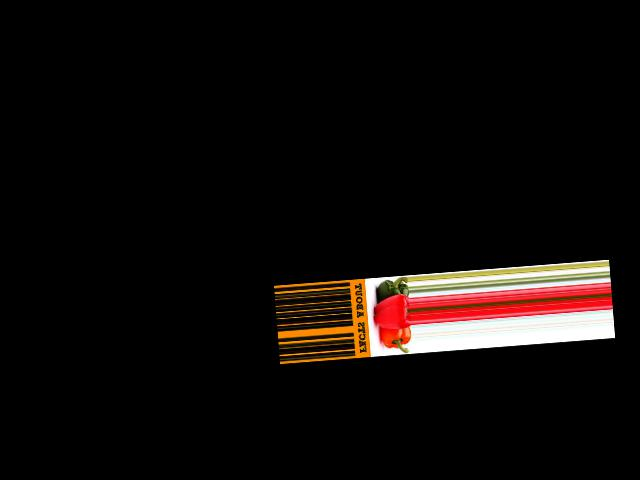bell_pepper: (370, 276, 408, 299)
